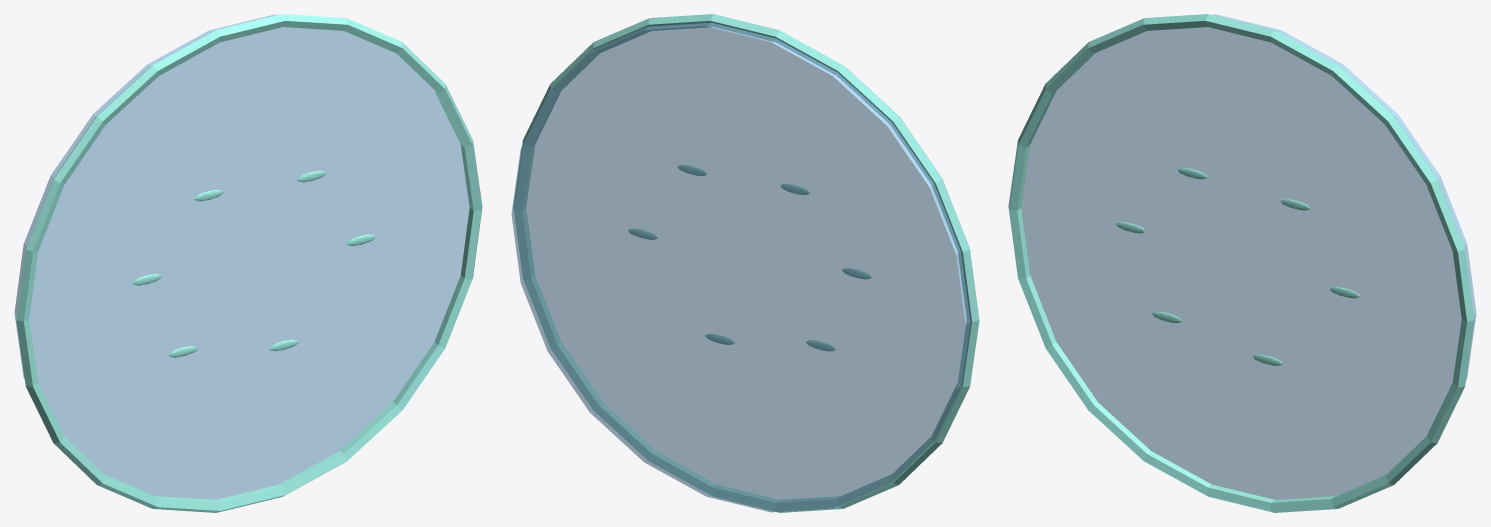
The model's file is 01_starfield_sky_water_preview.glb.
3 renders of one model, left to right at view 1: azimuth 30°, elevation 25°; view 2: azimuth 150°, elevation 25°; view 3: azimuth 330°, elevation 25°, orthographic.
Visible parts, largest first — view 1: water_surface, water_rim; view 2: water_surface, water_rim; view 3: water_surface, water_rim.
Boxes of the visible parts, <box> form: water_surface: <box>14,14,469,499</box>; water_rim: <box>16,14,482,512</box>; water_surface: <box>511,22,970,512</box>; water_rim: <box>513,14,979,512</box>; water_surface: <box>1021,14,1476,499</box>; water_rim: <box>1008,14,1474,512</box>.
Bounding box in the file's own units: 1.95 × 1.93 × 0.0935.
